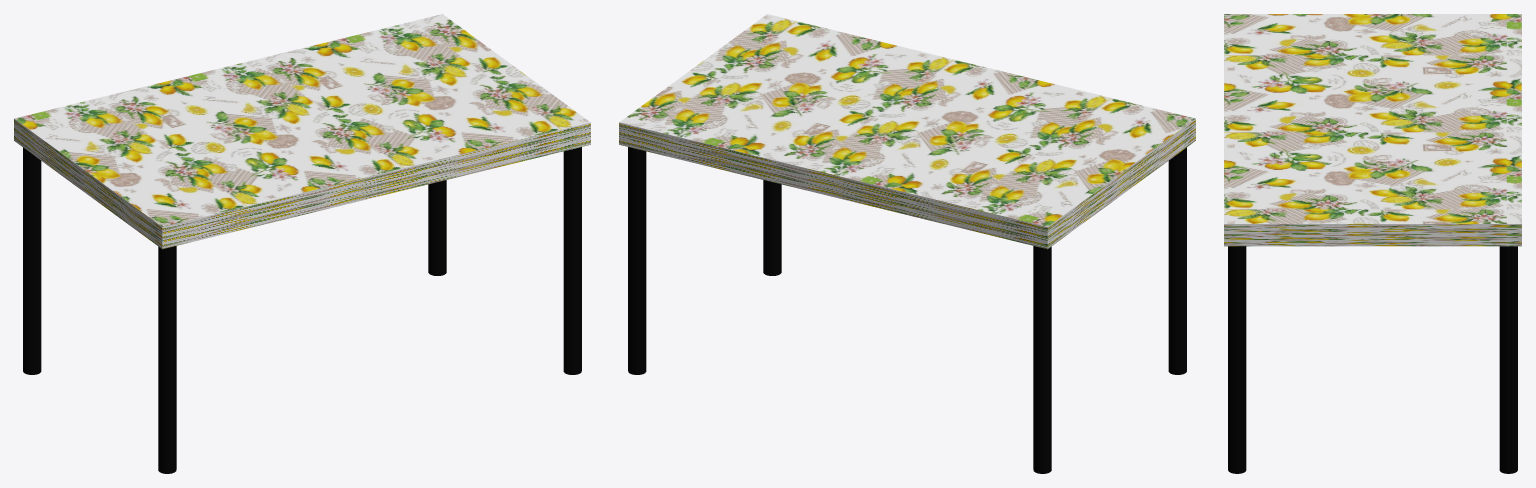
File: стол3.fbx
3 views of the same model, side by side, from view 1: azimuth 30°, elevation 25°; view 2: azimuth 150°, elevation 25°; view 3: azimuth 270°, elevation 25° (orthographic).
Parts seen in each view (by area): view 1: стол3; view 2: стол3; view 3: стол3.
Boxes of the visible parts, left/top/right/bottom form: стол3: left=14, top=14, right=590, bottom=473; стол3: left=619, top=14, right=1195, bottom=473; стол3: left=1224, top=14, right=1521, bottom=473.
Bounding box in the file's own units: 496 × 277 × 297.
Materials: 2 (1 with a texture image).
